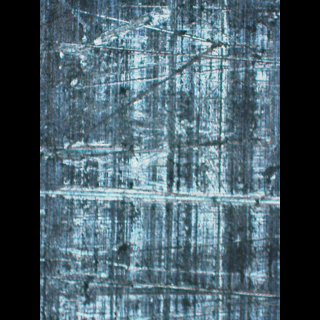d: (51, 0, 273, 309)
